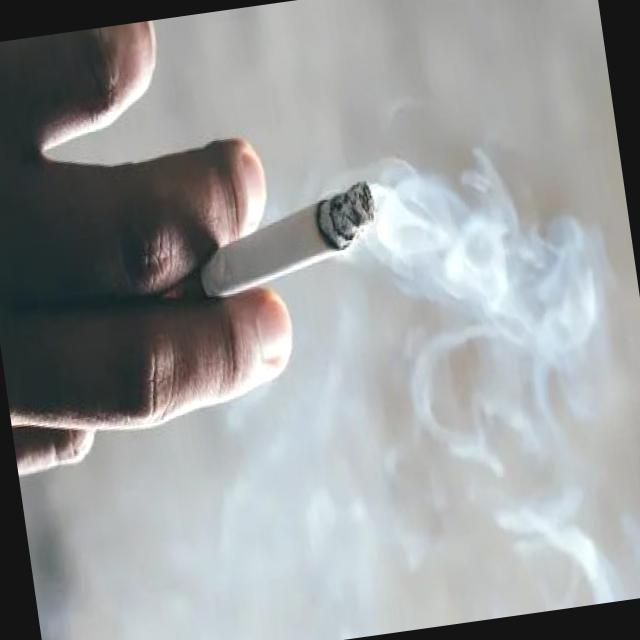cigarette: (160, 174, 390, 332)
